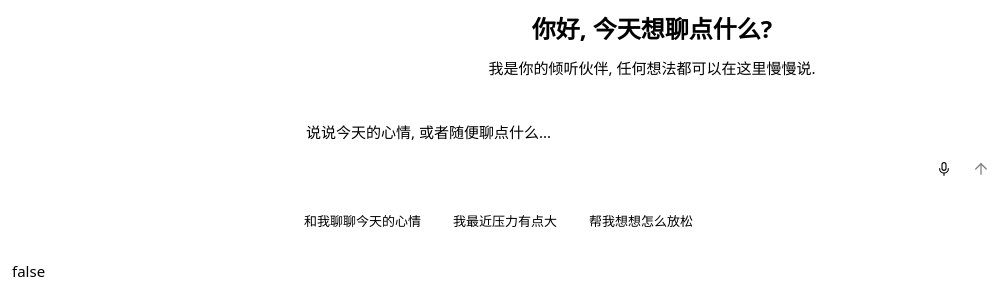
ChatView (输入区接线) › chips 访客门: 点击只翻开门态且不直发 (D25 上抛不直发)
Click the button "我最近压力有点大": (505, 222) [441,208,569,235]
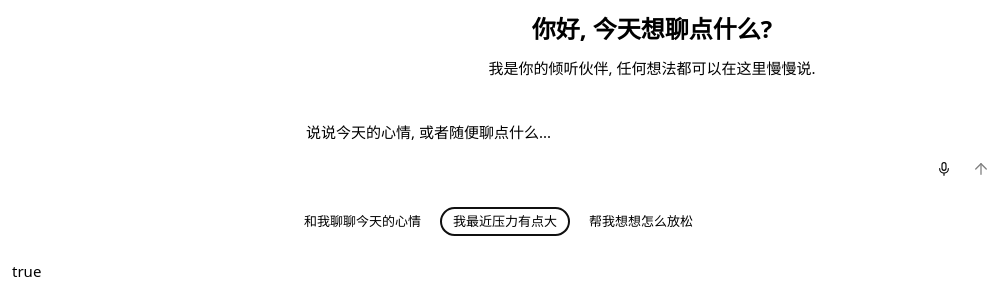
expect the text with test id "gate-open" reads "true": met, box [12,261,41,281]
